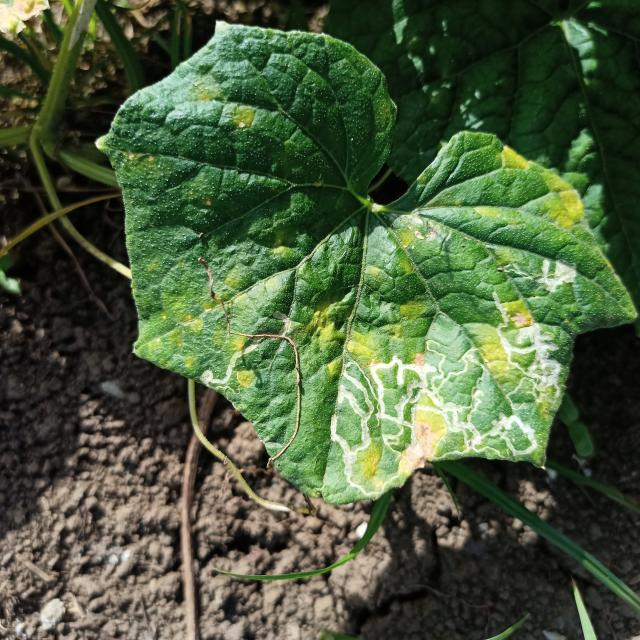disease_cucumber: (310, 232, 578, 486), (162, 245, 310, 389), (472, 140, 587, 234), (188, 79, 261, 139)
